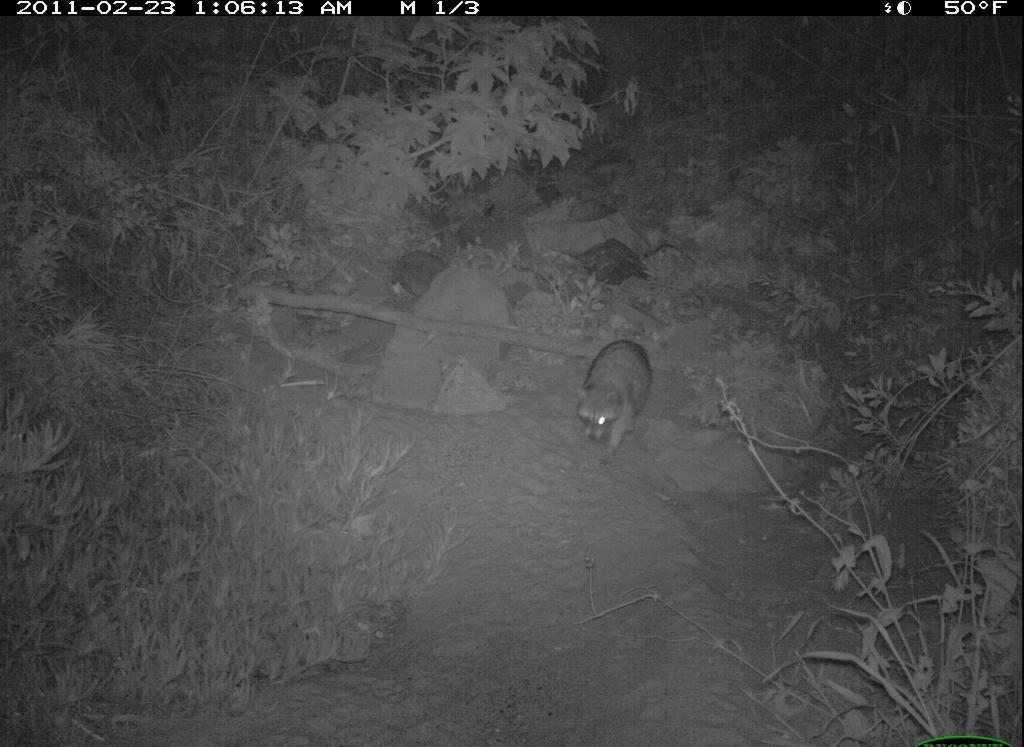raccoon: (574, 336, 661, 466)
